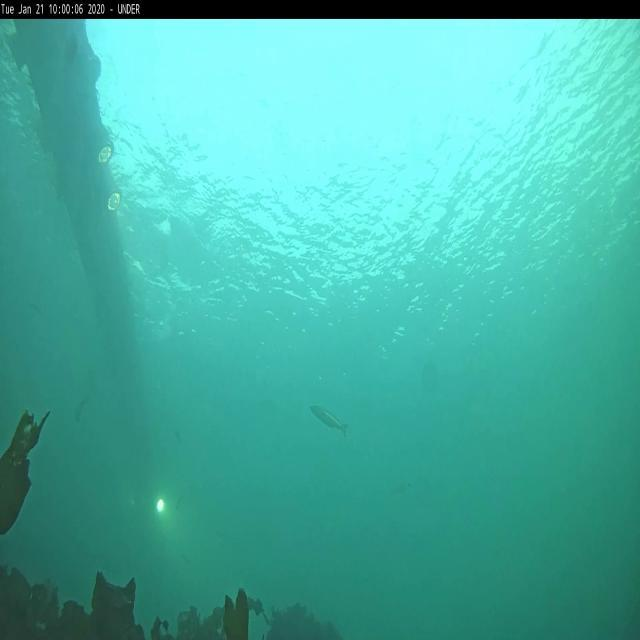fish: (310, 404, 348, 437), (73, 388, 90, 422), (175, 427, 188, 452)
